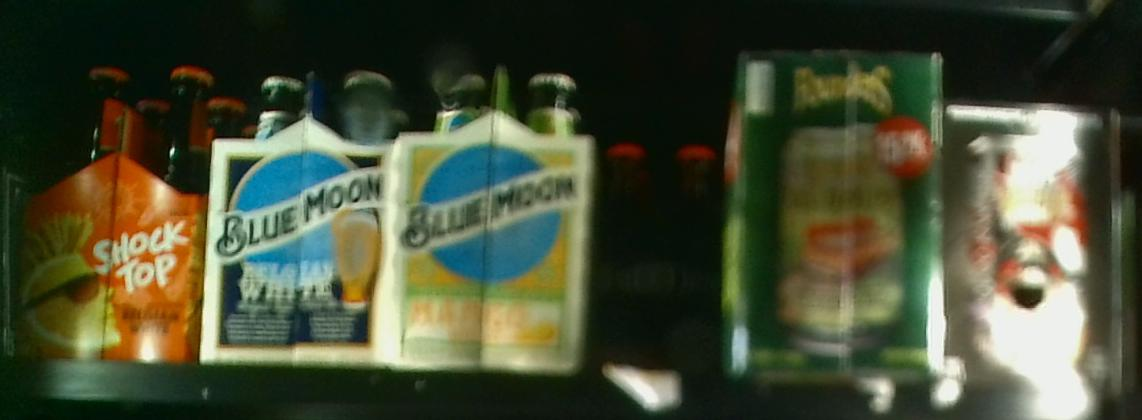bottle: (726, 47, 945, 380), (398, 63, 591, 376), (22, 54, 208, 361), (212, 59, 397, 359), (943, 103, 1122, 382), (601, 138, 716, 374)
